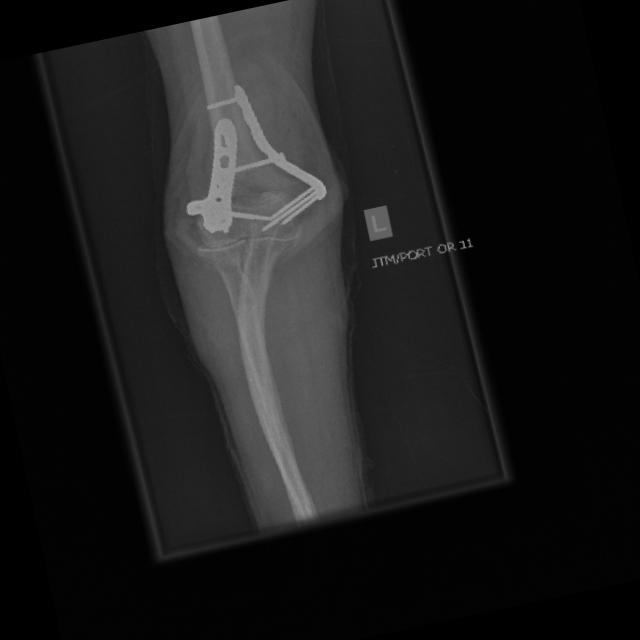elbow positive: (198, 116, 303, 219)
